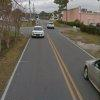Car: (73, 48, 99, 85)
